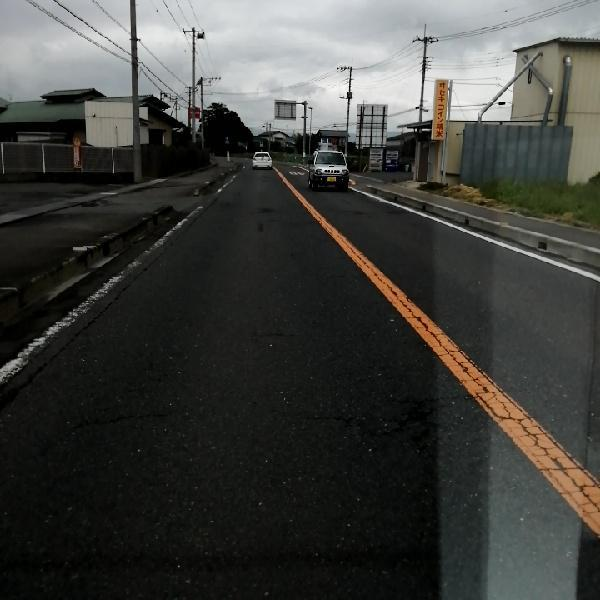D10: (61, 400, 188, 438), (287, 407, 380, 437), (395, 387, 469, 405), (245, 327, 303, 340)
D44: (0, 187, 221, 380)
